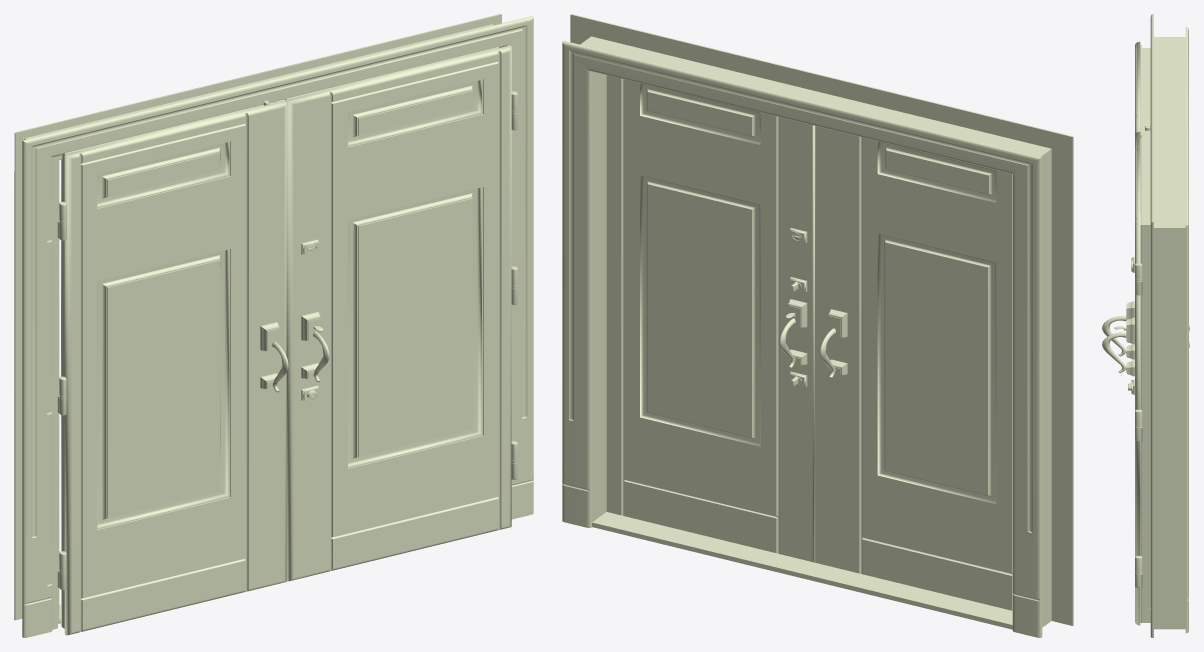
Rendered from doorGltf2.gltf.
The picture shows the model from 3 angles, left to right: view 1: azimuth 30°, elevation 25°; view 2: azimuth 150°, elevation 25°; view 3: azimuth 270°, elevation 25°; orthographic projection. The views are drawn at different scales.
Parts seen in each view (by area): view 1: Entrance_Door_003, Entrance_Door_002, Entrance_Door_004; view 2: Entrance_Door_003, Entrance_Door_002, Entrance_Door_004; view 3: Entrance_Door_004, Entrance_Door_003, Entrance_Door_002.
Part boxes in pixels (x1=…): Entrance_Door_003: x1=285, y1=45, x2=517, y2=581; Entrance_Door_002: x1=57, y1=99, x2=288, y2=635; Entrance_Door_004: x1=14, y1=14, x2=533, y2=637; Entrance_Door_003: x1=606, y1=75, x2=815, y2=562; Entrance_Door_002: x1=815, y1=126, x2=1012, y2=610; Entrance_Door_004: x1=562, y1=14, x2=1073, y2=637; Entrance_Door_004: x1=1150, y1=14, x2=1188, y2=637; Entrance_Door_003: x1=1102, y1=131, x2=1189, y2=625; Entrance_Door_002: x1=1102, y1=41, x2=1189, y2=359.
Bounding box in the file's own units: 6.7 × 6.23 × 1.19.
